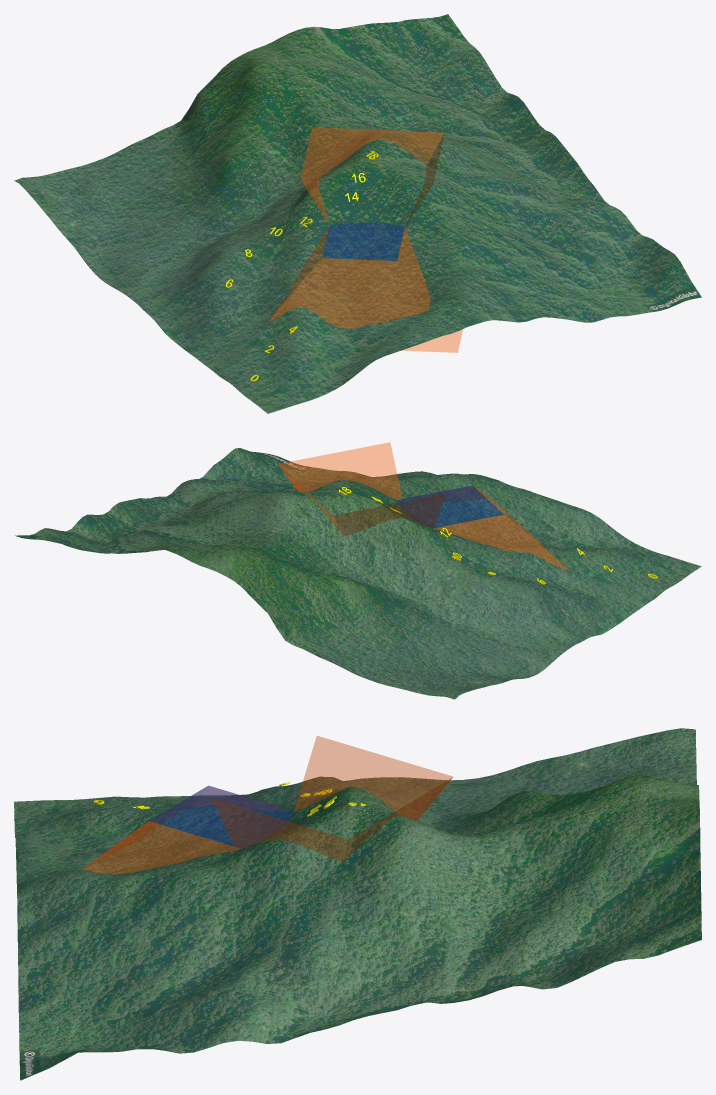
File: curva13a.glb
3 views of the same model, one above another, from view 1: azimuth 30°, elevation 25°; view 2: azimuth 150°, elevation 25°; view 3: azimuth 270°, elevation 25° (orthographic). The views are drawn at different scales.
Visible parts, largest first — view 1: root, object 3; view 2: root, object 3, object 2; view 3: root, object 3.
Boxes of the visible parts, <box> form: root: <box>14,14,701,413</box>; object 3: <box>267,127,462,352</box>; root: <box>15,448,701,699</box>; object 3: <box>278,442,571,571</box>; object 2: <box>338,487,657,584</box>; root: <box>14,728,701,1080</box>; object 3: <box>82,736,453,873</box>.
Bounding box in the file's own units: 2019 × 576 × 2004.
5 materials, 1 textured.
